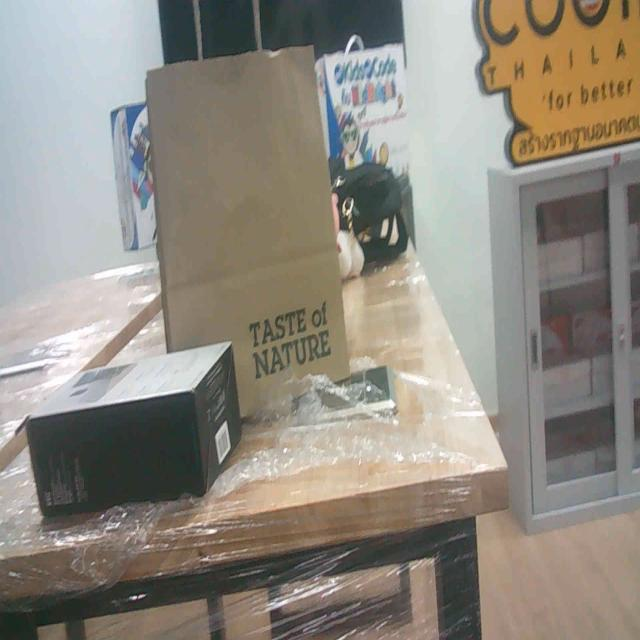bag: (140, 68, 344, 419)
